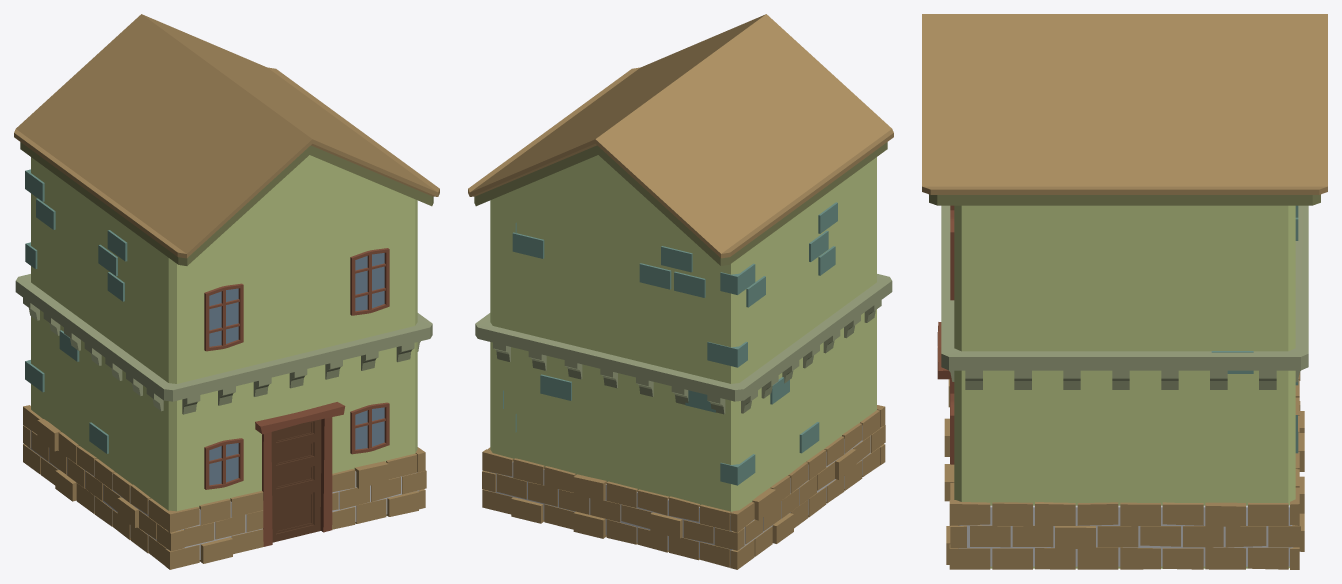
File: 2.bina.fbx
3 renders of one model, left to right at view 1: azimuth 30°, elevation 25°; view 2: azimuth 150°, elevation 25°; view 3: azimuth 270°, elevation 25°, orthographic. The views are drawn at different scales.
Parts seen in each view (by area): view 1: 2Story_GableRoof_Mat; view 2: 2Story_GableRoof_Mat; view 3: 2Story_GableRoof_Mat.
Part boxes in pixels (left/top/right/bottom): 2Story_GableRoof_Mat: left=14, top=14, right=439, bottom=569; 2Story_GableRoof_Mat: left=468, top=14, right=893, bottom=569; 2Story_GableRoof_Mat: left=922, top=14, right=1327, bottom=569.
Size of the model in its own units: 216 by 313 by 238.
